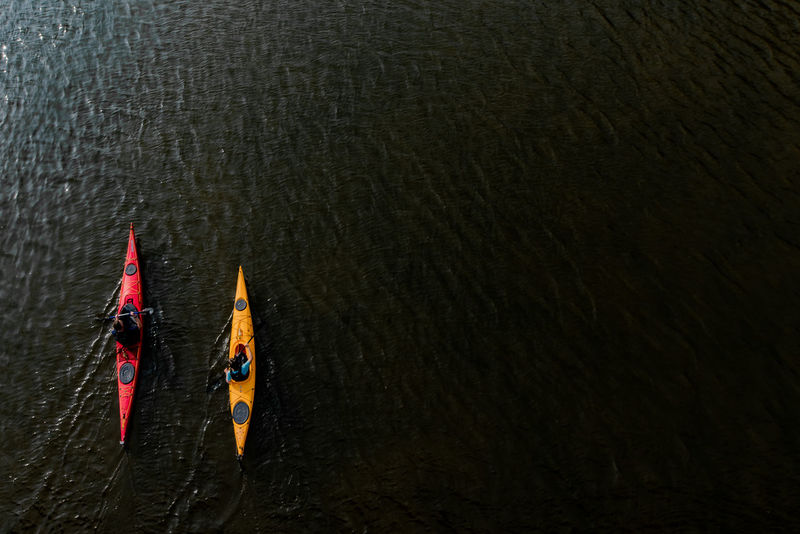kayaker: (93, 220, 164, 449), (207, 264, 279, 473)
